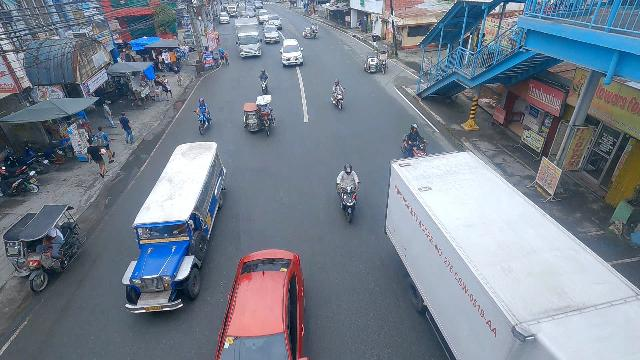car: (214, 246, 308, 360), (279, 39, 304, 67), (261, 21, 280, 44), (267, 13, 282, 30), (257, 9, 270, 25), (245, 6, 255, 18), (253, 0, 263, 10)
jeepney: (120, 141, 229, 316), (224, 4, 237, 16)
motorcycle: (334, 162, 363, 224), (399, 122, 430, 160), (194, 97, 213, 135), (330, 78, 345, 110), (258, 70, 270, 96)
truck: (380, 150, 640, 360), (234, 17, 262, 58)
